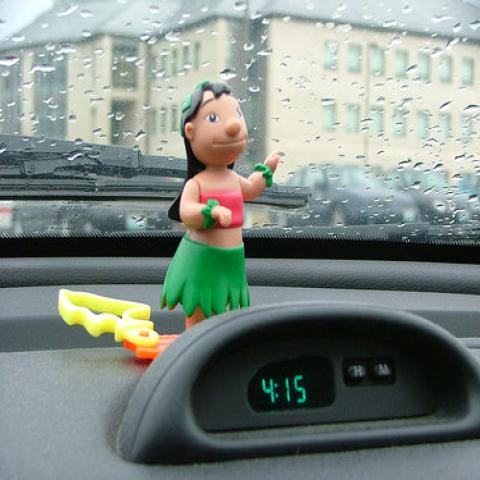car: (287, 160, 420, 226)
